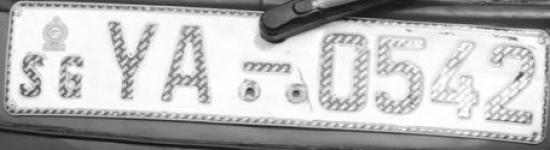-: (241, 57, 298, 80)
0: (316, 26, 371, 116)
2: (481, 36, 539, 133)
4: (428, 35, 482, 124)
5: (370, 28, 429, 118)
A: (158, 20, 218, 111)
G: (53, 53, 89, 102)
S: (16, 49, 47, 100)
Y: (104, 17, 158, 102)
